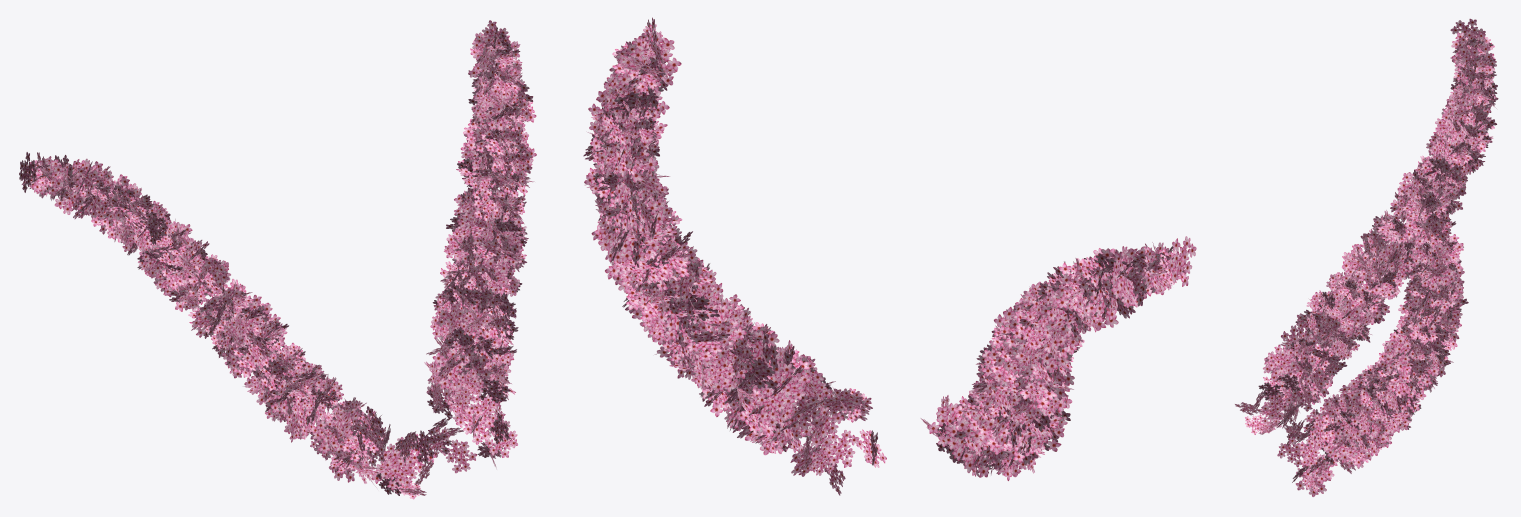
File: BranchFlowers01_Art.glb
3 views of the same model, side by side, from view 1: azimuth 30°, elevation 25°; view 2: azimuth 150°, elevation 25°; view 3: azimuth 270°, elevation 25° (orthographic). The views are drawn at different scales.
Parts seen in each view (by area): view 1: BranchFlowers01_Art; view 2: BranchFlowers01_Art; view 3: BranchFlowers01_Art.
Boxes of the visible parts, left/top/right/bottom form: BranchFlowers01_Art: left=19, top=20, right=536, bottom=499; BranchFlowers01_Art: left=583, top=17, right=1196, bottom=495; BranchFlowers01_Art: left=1235, top=18, right=1498, bottom=497.
Size of the model in its own units: 15.6 by 12.08 by 8.28.
1 material, 1 textured.
